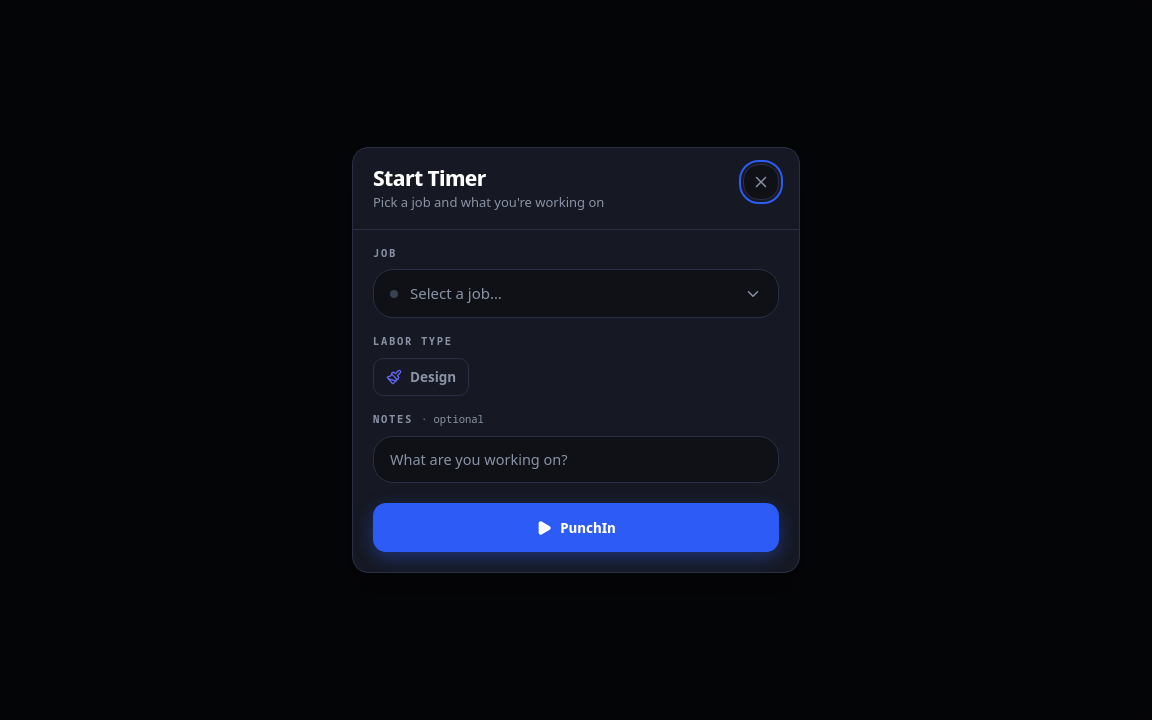
StartTimerModal — job combobox › Escape closes the open job listbox without closing the modal
The image size is (1152, 720).
Step 1. Click the button "Select a job…" → {"x": 456, "y": 293}, box [373,269,779,318]
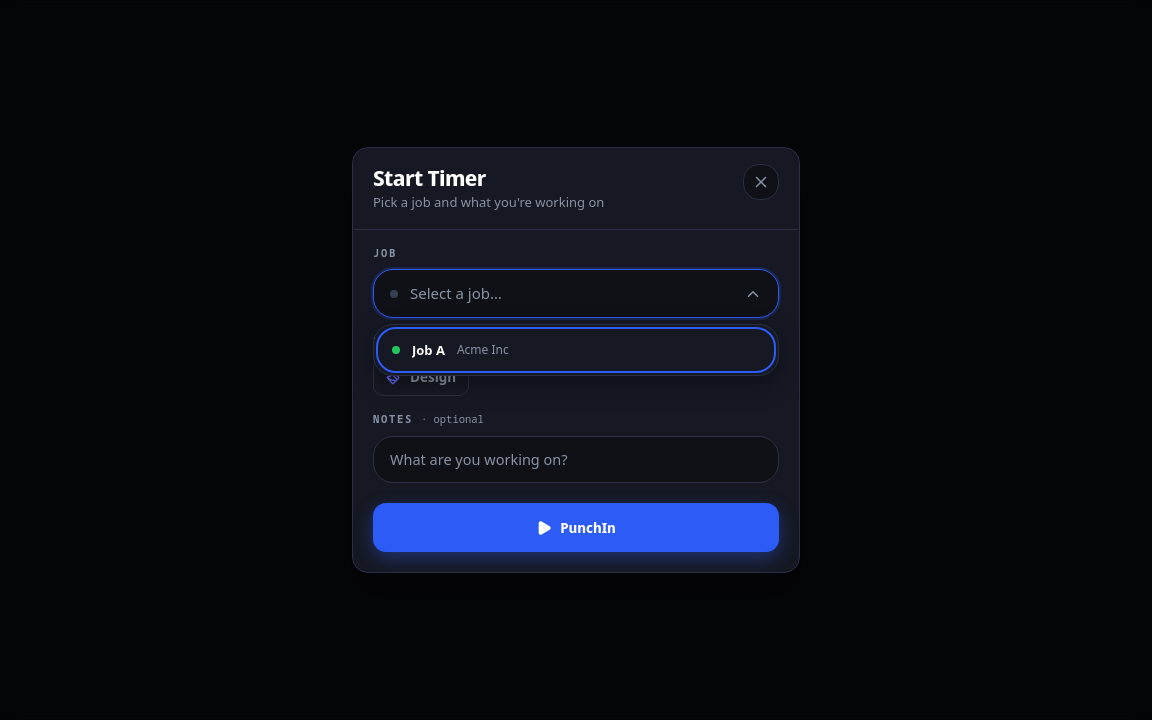
Check: the list is shown, box [373,324,779,376]
Step 2. Press Escape
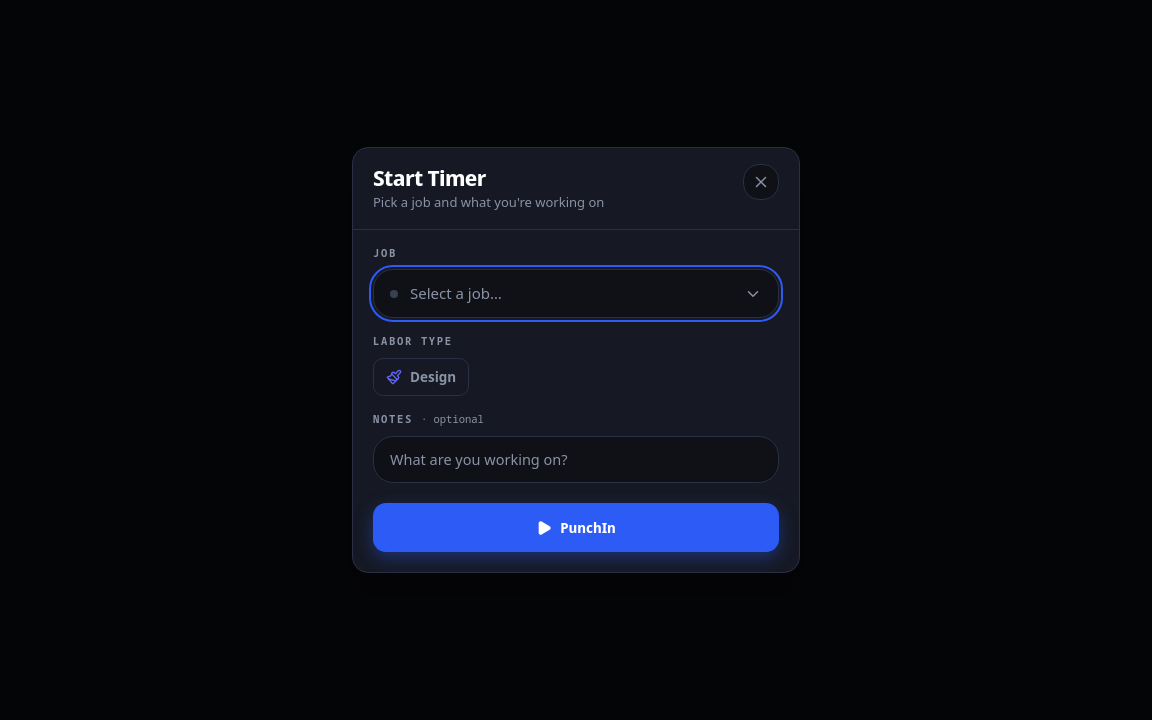
Check: the list is gone
